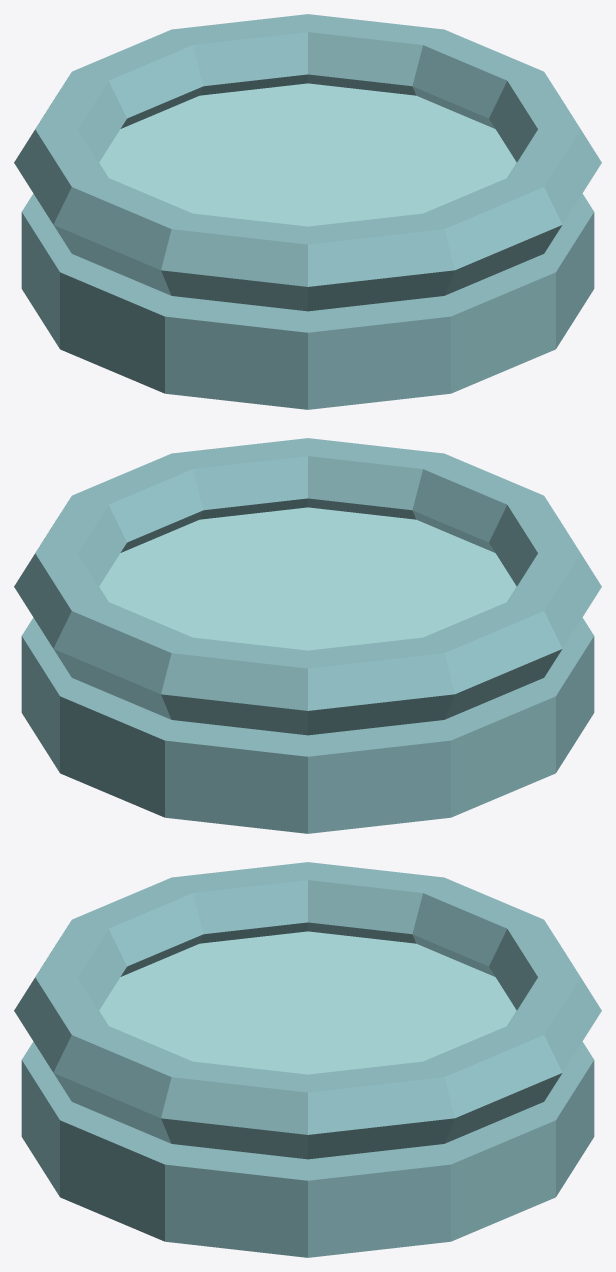
The model's file is waterer.glb.
3 views of the same model, one above another, from view 1: azimuth 30°, elevation 25°; view 2: azimuth 150°, elevation 25°; view 3: azimuth 270°, elevation 25° (orthographic).
Parts seen in each view (by area): view 1: Rim, Base, Water; view 2: Rim, Base, Water; view 3: Rim, Base, Water.
Part boxes in pixels (x1,y1,x2,y2): Rim: (14,14,601,311); Base: (21,193,594,409); Water: (99,83,516,226); Rim: (14,438,601,735); Base: (21,617,594,833); Water: (99,507,516,650); Rim: (14,862,601,1159); Base: (21,1041,594,1257); Water: (99,931,516,1074).
Size of the model in its own units: 0.76 by 0.2276 by 0.76.
